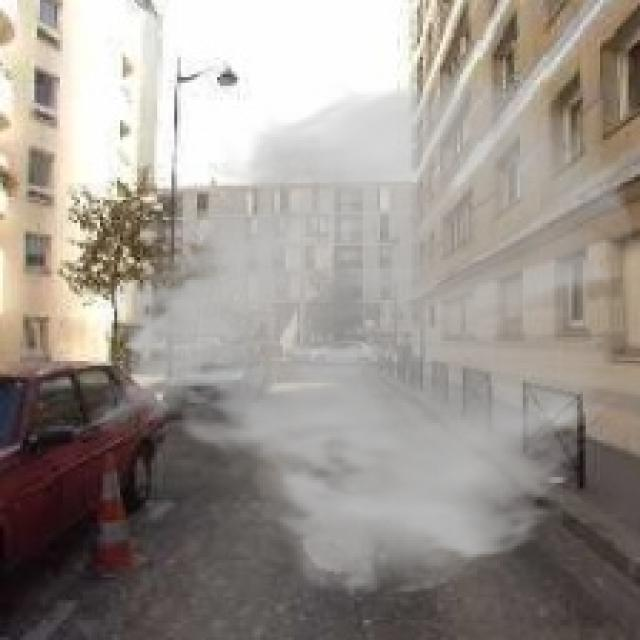Smoke: (88, 63, 638, 600)
